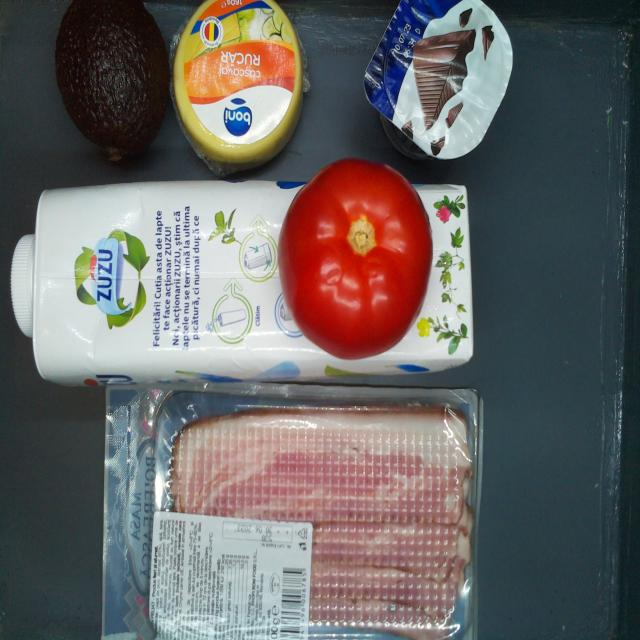avocado: (58, 3, 172, 162)
bacon: (104, 387, 484, 640)
cheese: (174, 0, 306, 173)
milk: (11, 181, 475, 386)
tomatoes: (279, 160, 433, 360)
yogurt: (366, 1, 514, 160)
